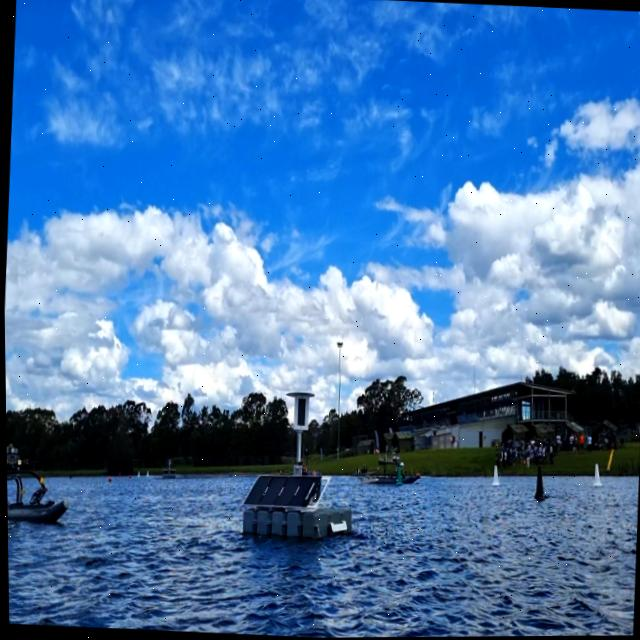led: (293, 396, 308, 430)
